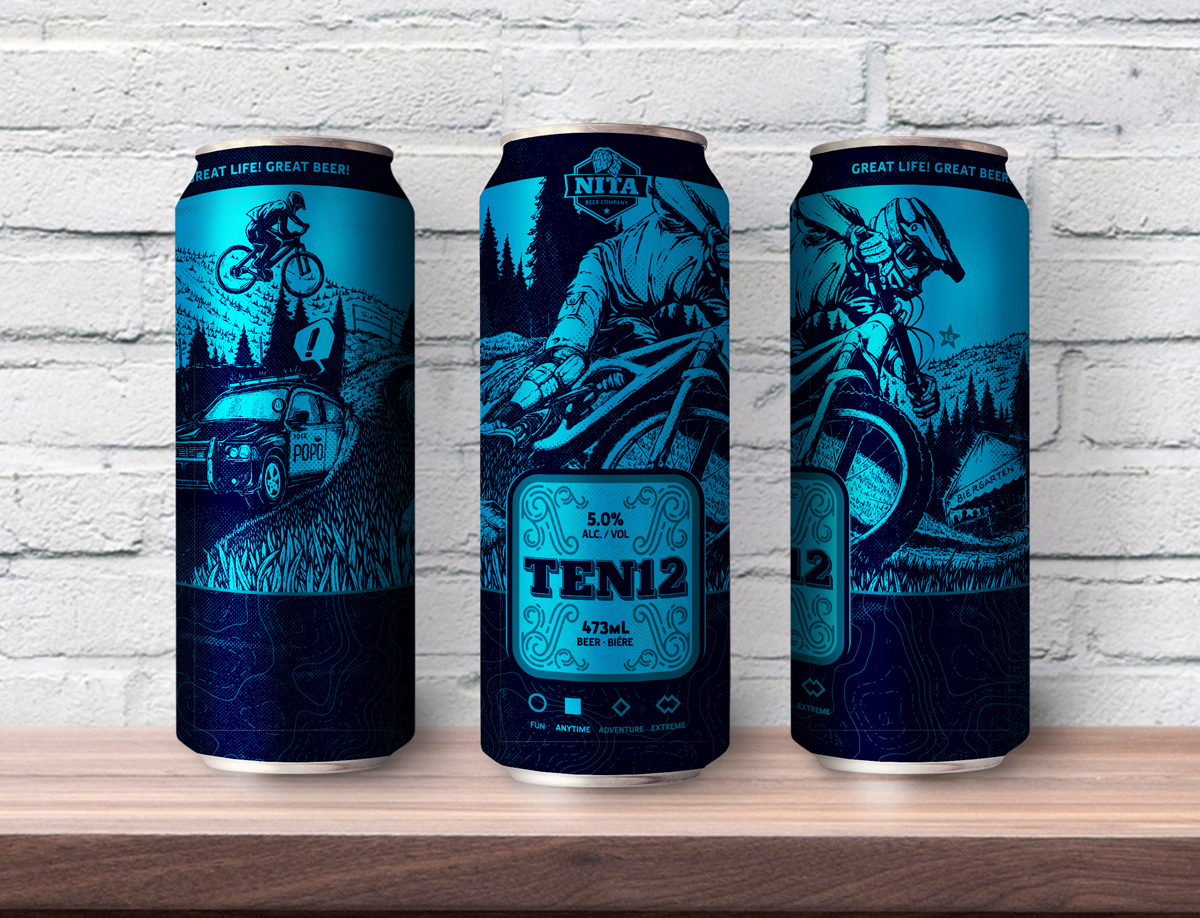beer can: (480, 123, 732, 793), (170, 137, 420, 782), (787, 135, 1029, 777)
